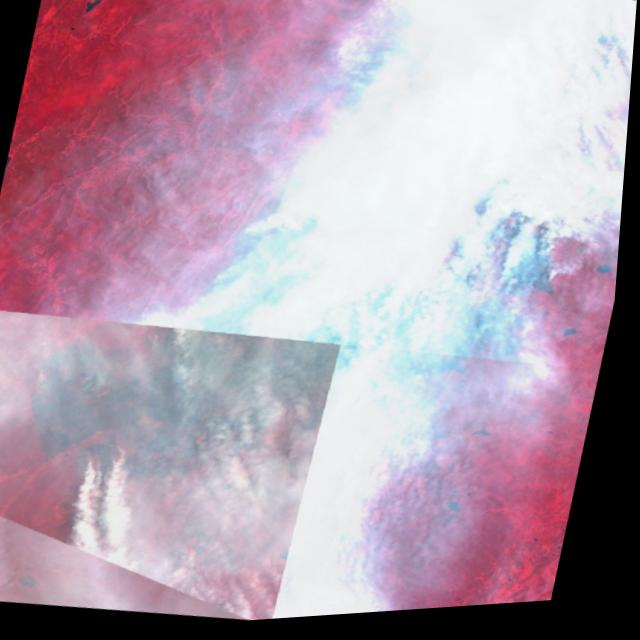fire: (426, 99, 602, 307), (66, 429, 146, 493)
